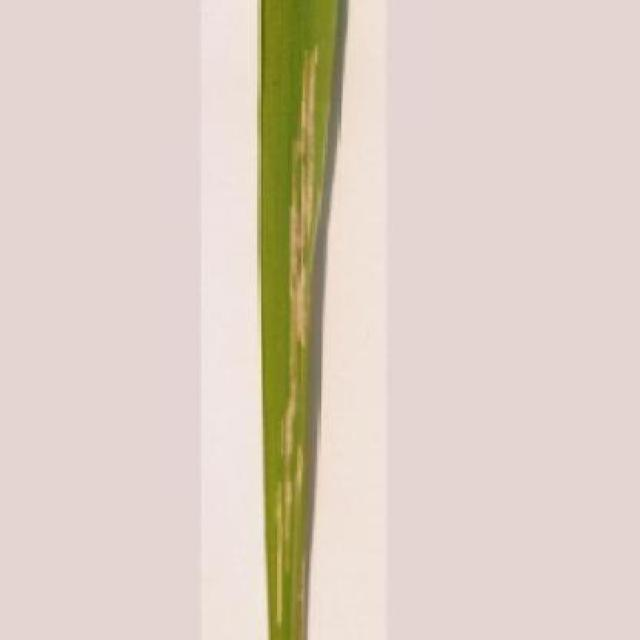Brown_Spot: (256, 0, 346, 640)
